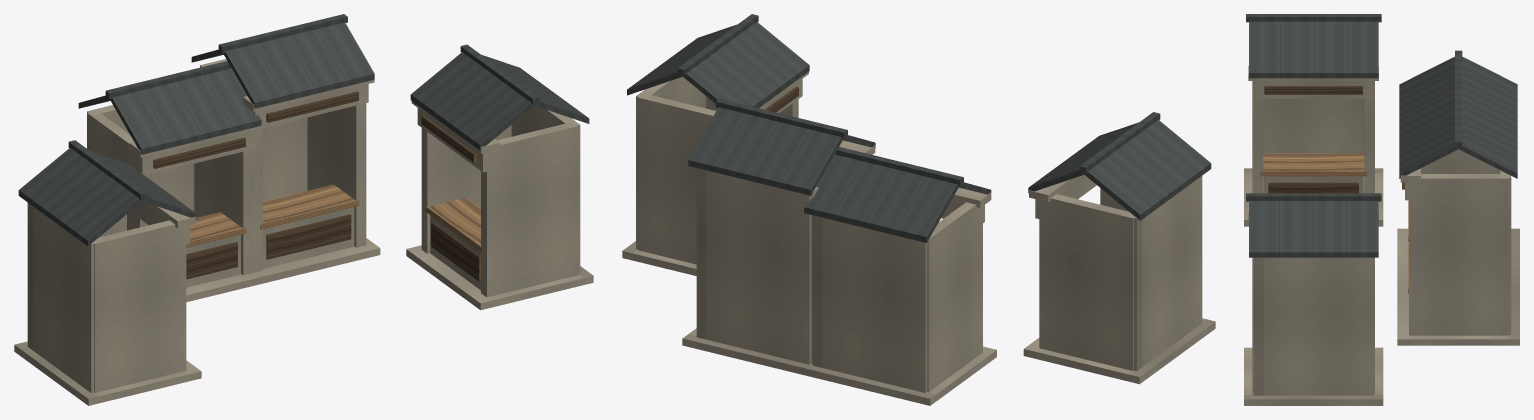
3 renders of one model, left to right at view 1: azimuth 30°, elevation 25°; view 2: azimuth 150°, elevation 25°; view 3: azimuth 270°, elevation 25°, orthographic. The views are drawn at different scales.
Visible parts, largest first — view 1: skopje; view 2: skopje; view 3: skopje.
Part boxes in pixels (x1,y1,x2,y2): skopje: (14, 14, 593, 405); skopje: (622, 14, 1215, 405); skopje: (1244, 14, 1519, 405).
Bounding box in the file's own units: 6.12 × 2.5 × 3.08.
Materials: 1 (1 with a texture image).
